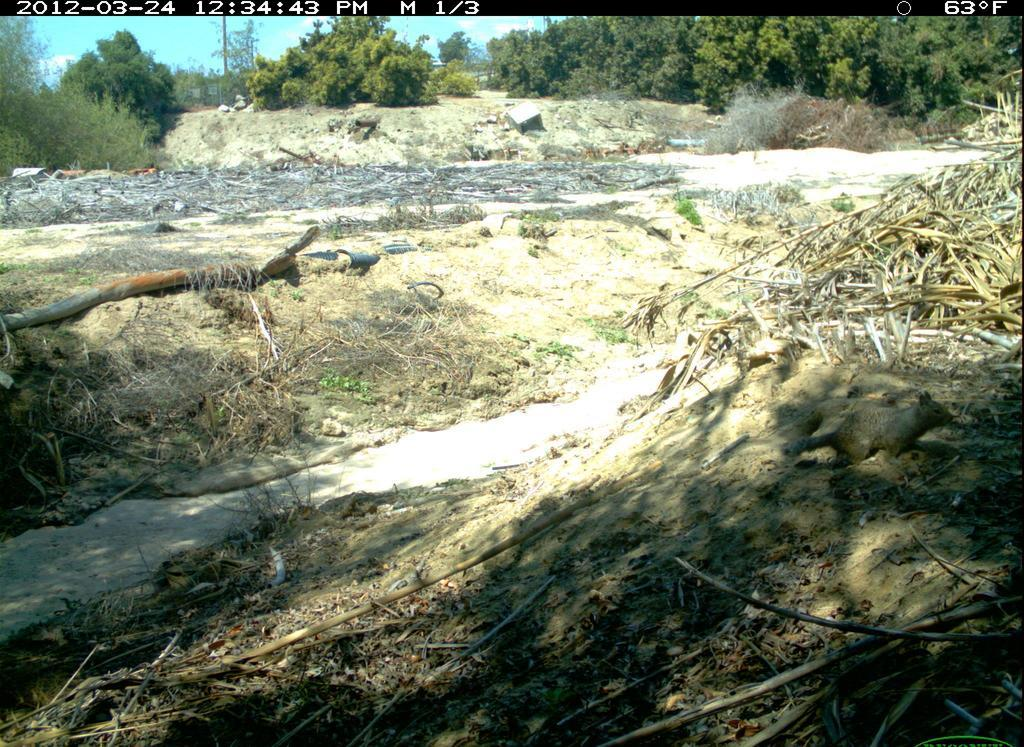squirrel: (769, 379, 961, 481)
